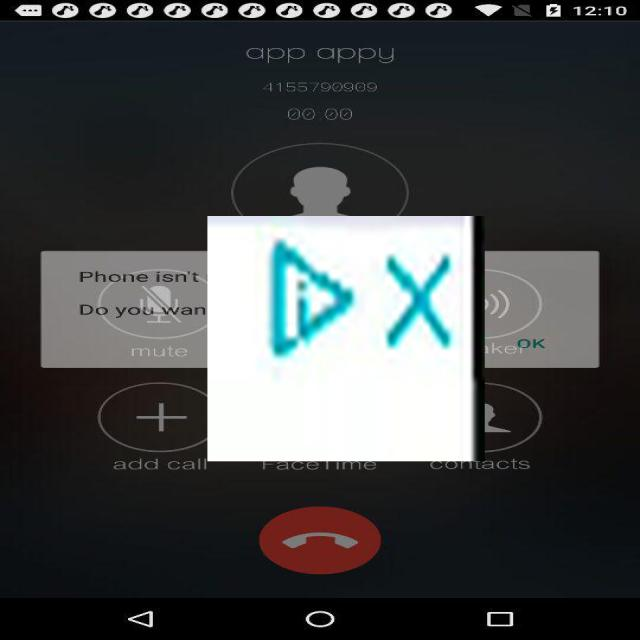sneaking: (207, 216, 485, 461)
